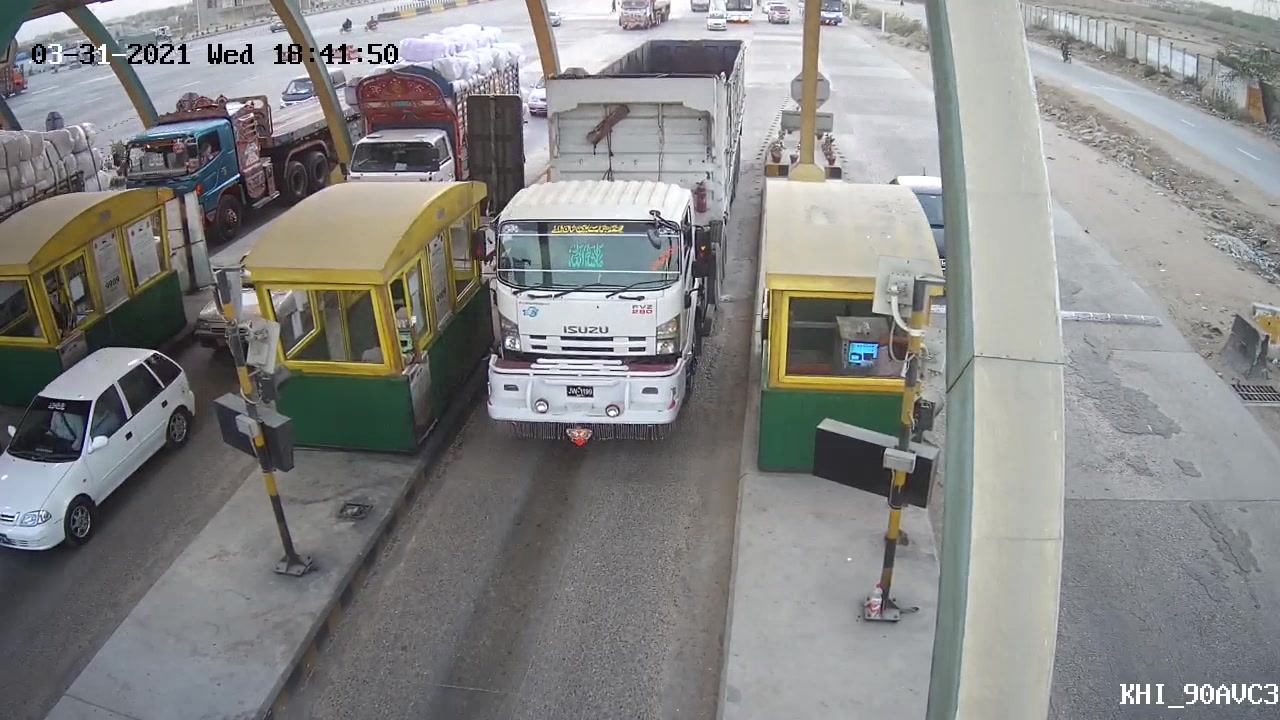F5: (468, 68, 747, 446)
